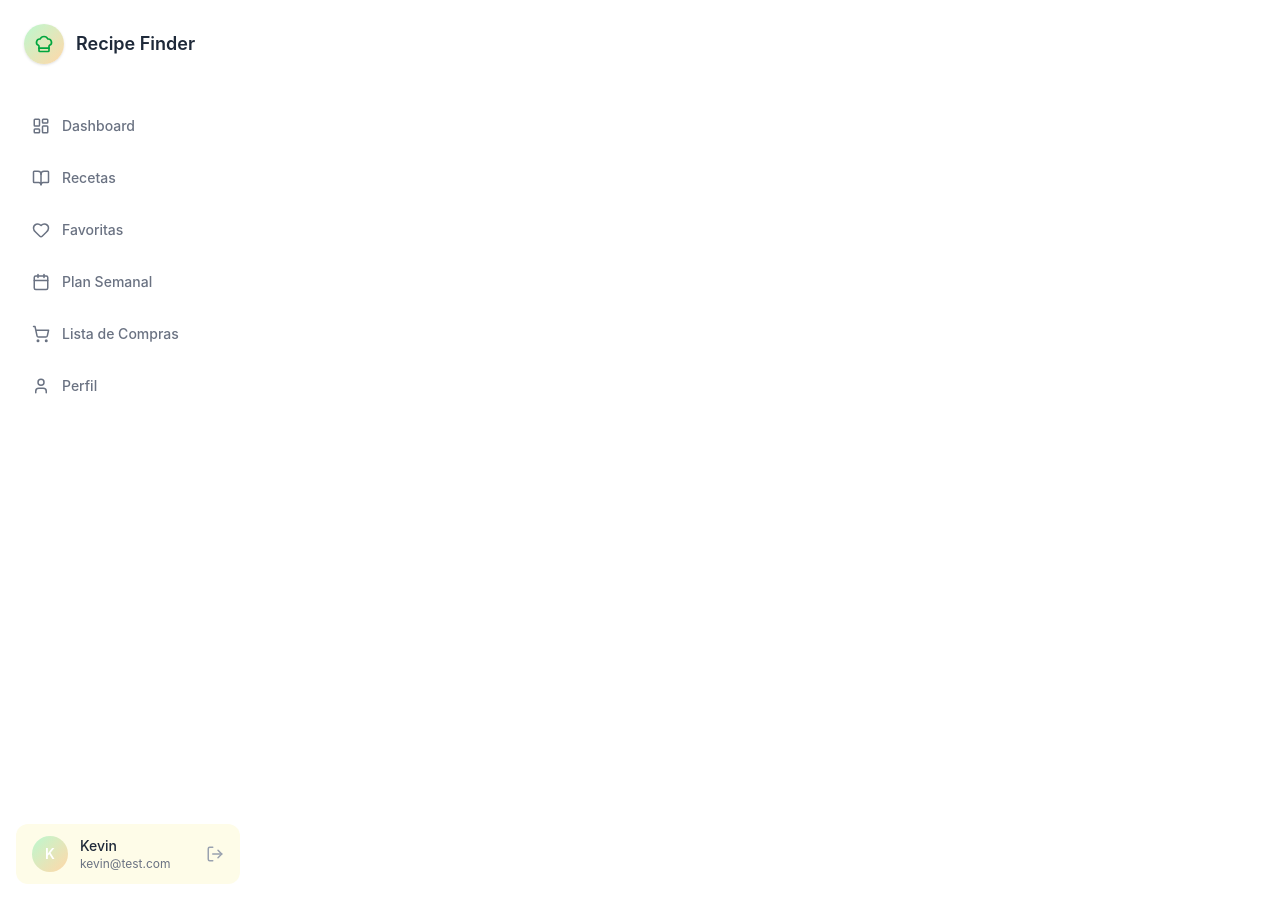
Test: Sidebar › should close modal when cancel is clicked
Click the button named "logout": (215, 854) [206,845,224,863]
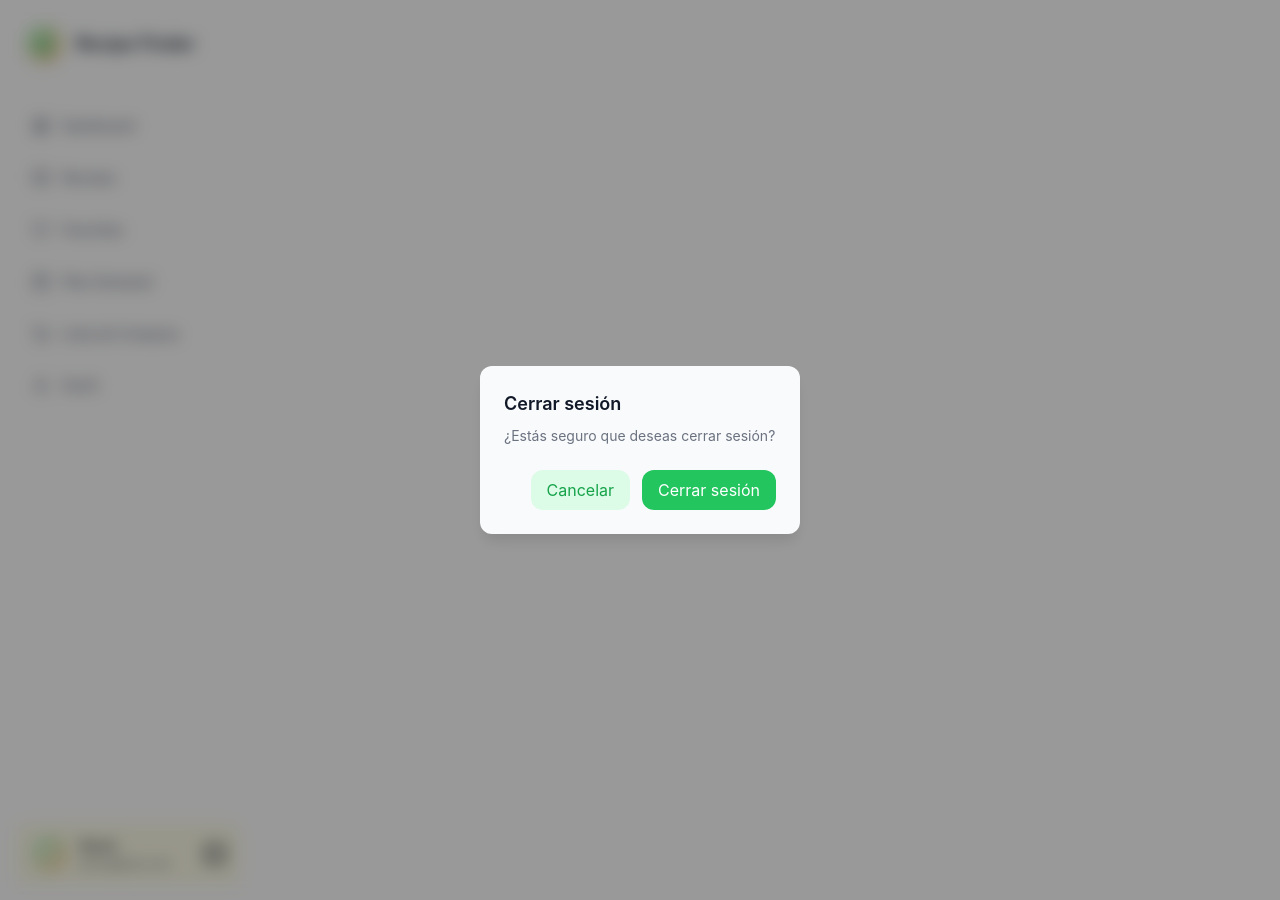
Click the button "Cancelar": (580, 490) [530,470,630,510]
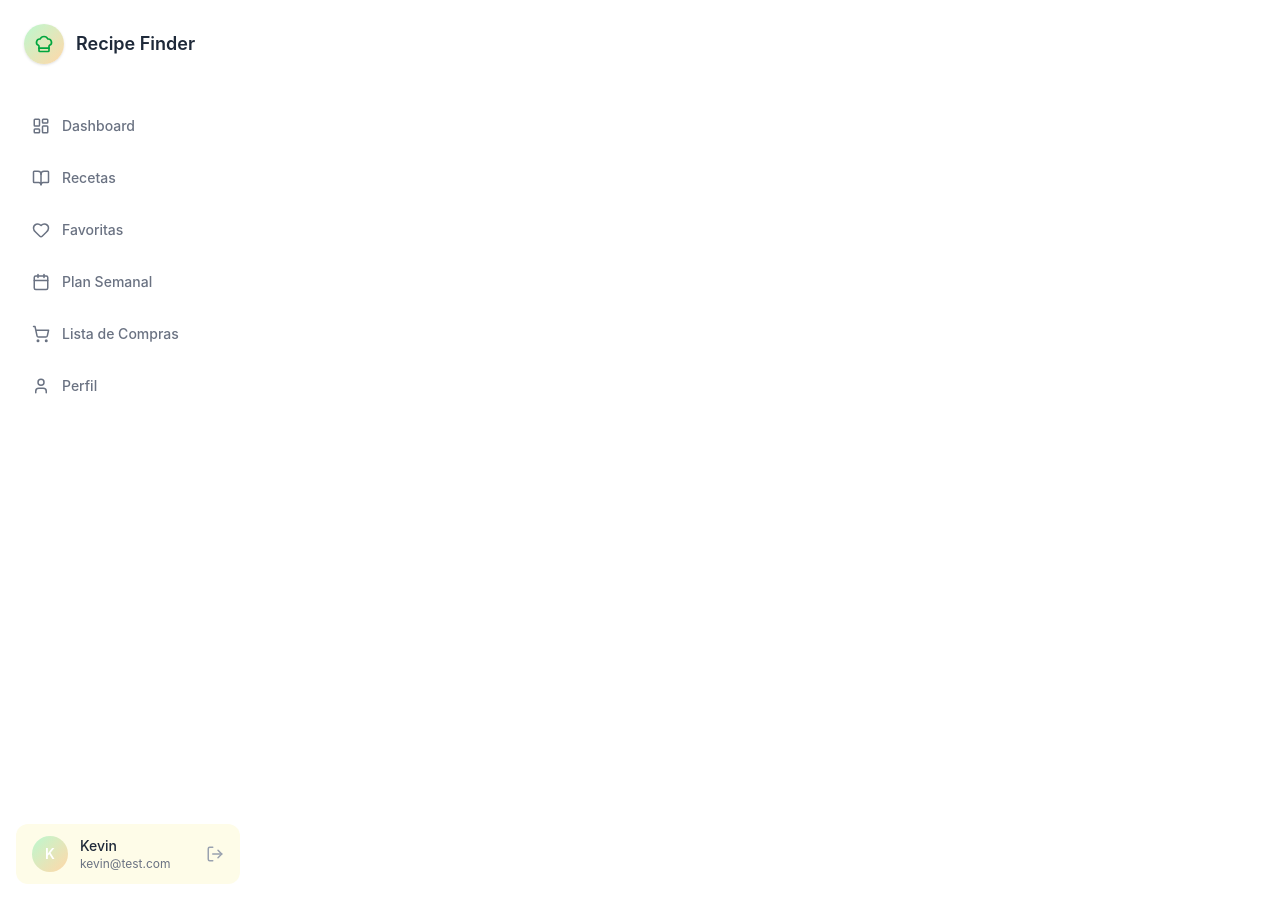
Check: the heading "Cerrar sesión" is gone
